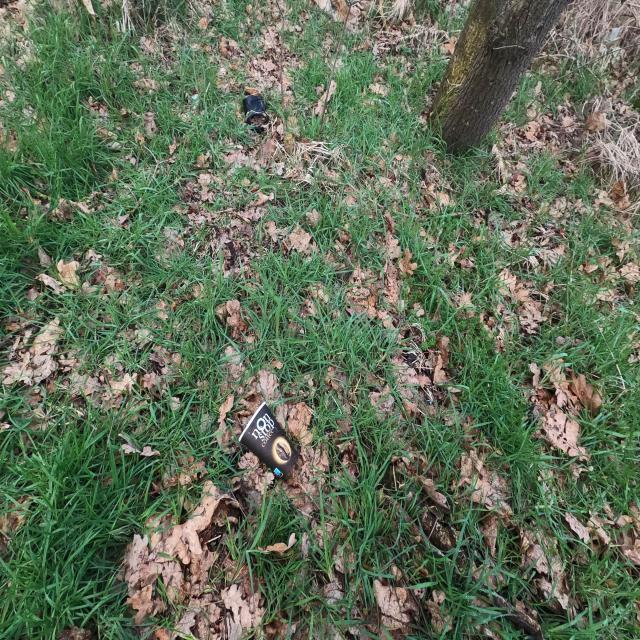Cup: (236, 400, 302, 482)
